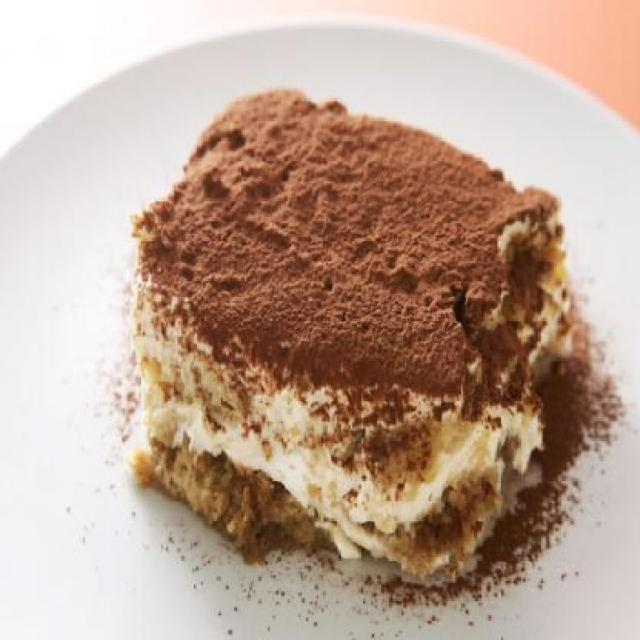Tiramisu: (143, 86, 551, 560)
